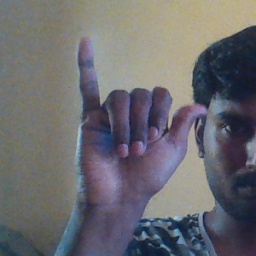J: (71, 36, 208, 200)
